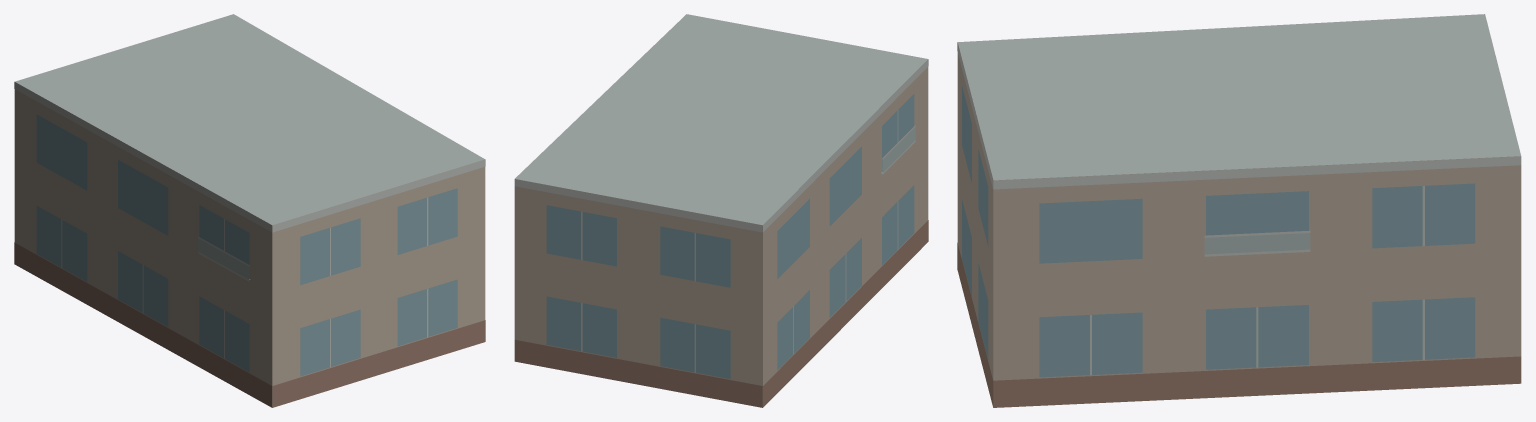
File: survey-upis-32929013.glb
3 renders of one model, left to right at view 1: azimuth 30°, elevation 25°; view 2: azimuth 150°, elevation 25°; view 3: azimuth 270°, elevation 25°, orthographic. The views are drawn at different scales.
Visible parts, largest first — view 1: survey-upis-32929013.tmp; view 2: survey-upis-32929013.tmp; view 3: survey-upis-32929013.tmp.
Boxes of the visible parts, x1,y1,x2,y2 form: survey-upis-32929013.tmp: [14, 14, 485, 407]; survey-upis-32929013.tmp: [514, 14, 928, 407]; survey-upis-32929013.tmp: [957, 14, 1521, 407].
Size of the model in its own units: 9.58 by 6.1 by 13.71.
